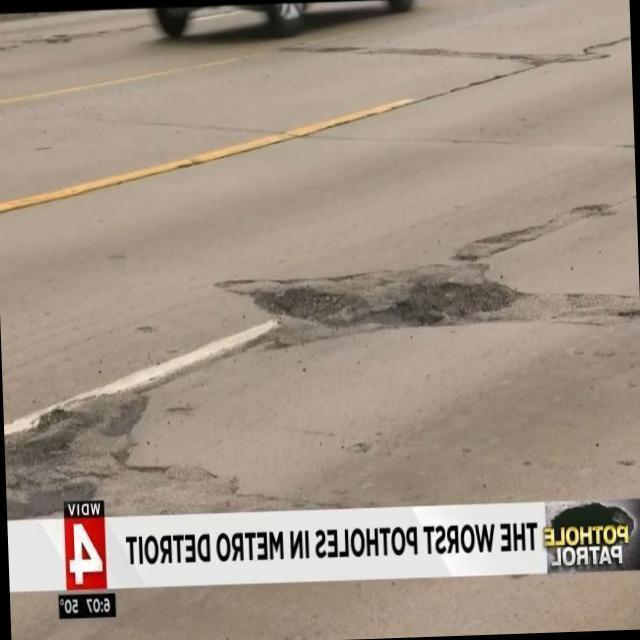Pothole: (221, 267, 512, 342), (8, 391, 165, 516)
